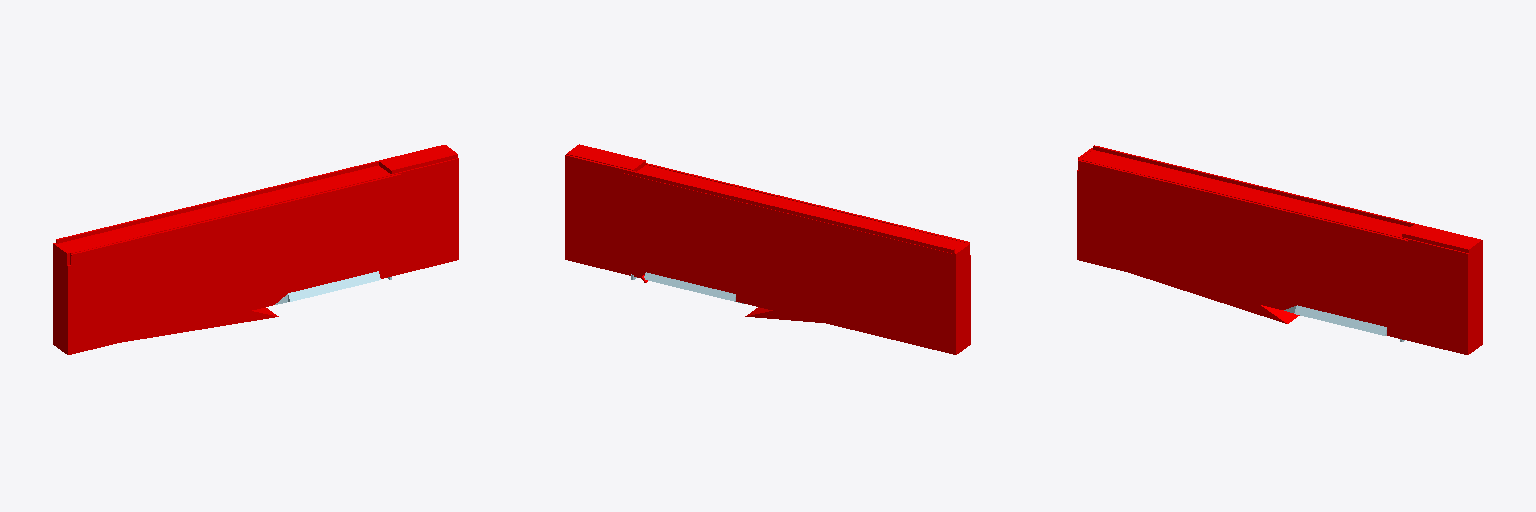
Rendered from map.obj.
3 views of the same model, side by side, from view 1: azimuth 30°, elevation 25°; view 2: azimuth 150°, elevation 25°; view 3: azimuth 330°, elevation 25° (orthographic).
Parts seen in each view (by area): view 1: map; view 2: map; view 3: map.
Boxes of the visible parts, <box> form: map: <box>53,145,458,354</box>; map: <box>565,144,970,354</box>; map: <box>1077,145,1482,354</box>.
Bounding box in the file's own units: 1508 × 434 × 136.